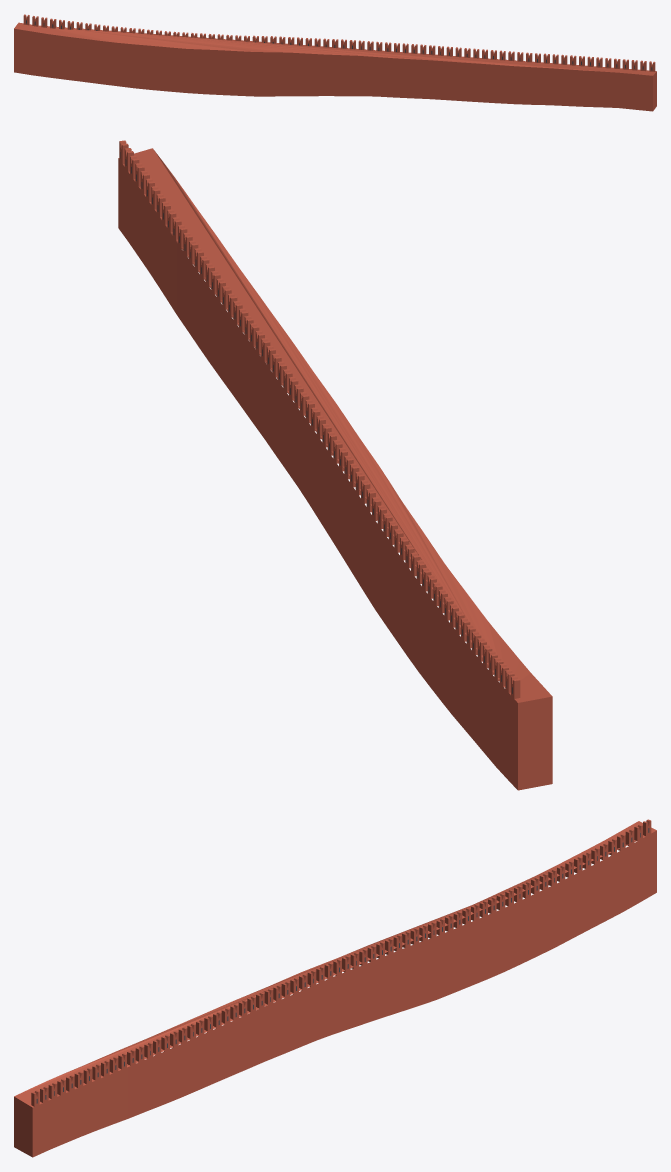
The model's file is moscow-kremlin-wall-nikolskaya-senate.glb.
3 renders of one model, top to bottom at view 1: azimuth 30°, elevation 25°; view 2: azimuth 150°, elevation 25°; view 3: azimuth 270°, elevation 25°, orthographic. The views are drawn at different scales.
Parts seen in each view (by area): view 1: Kremlin Wall, Nikolskaya Tower to Senate Tower; view 2: Kremlin Wall, Nikolskaya Tower to Senate Tower; view 3: Kremlin Wall, Nikolskaya Tower to Senate Tower.
Part boxes in pixels (x1,y1,x2,y2): Kremlin Wall, Nikolskaya Tower to Senate Tower: (14, 14, 656, 111); Kremlin Wall, Nikolskaya Tower to Senate Tower: (118, 140, 552, 790); Kremlin Wall, Nikolskaya Tower to Senate Tower: (14, 819, 656, 1157).
Bounding box in the file's own units: 110 × 16.69 × 100.
